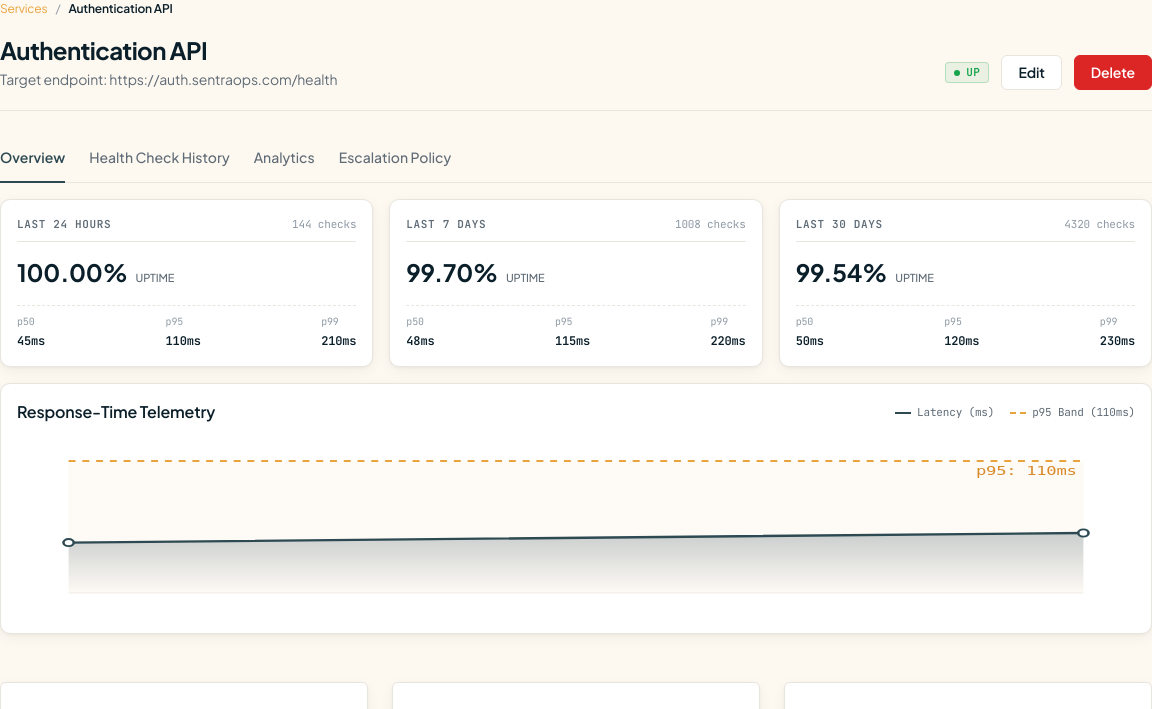
Scenario: Phase 4 — Services & Groups Integration & Compliance › Services List & Detail Page Integration › navigates to Service Detail Page and switches tabs
expect the heading "Authentication API" is shown: met, box [0, 35, 207, 65]
// Switch to Health Check History tab
Click the tab "Health Check History".
click(159, 159)  # box [89, 135, 230, 183]
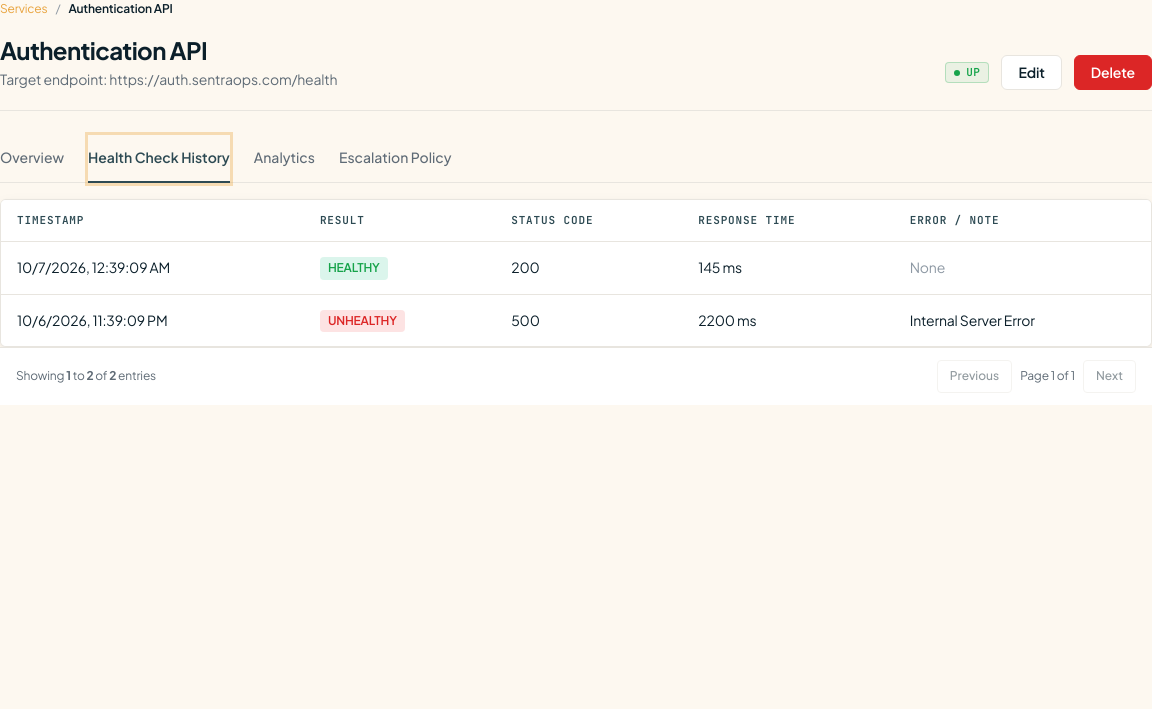
expect the table is shown: met, box [1, 200, 1151, 346]
expect the text "HEALTHY" is shown: met, box [320, 257, 388, 280]
